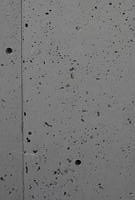Spalling: (1, 1, 135, 200)
